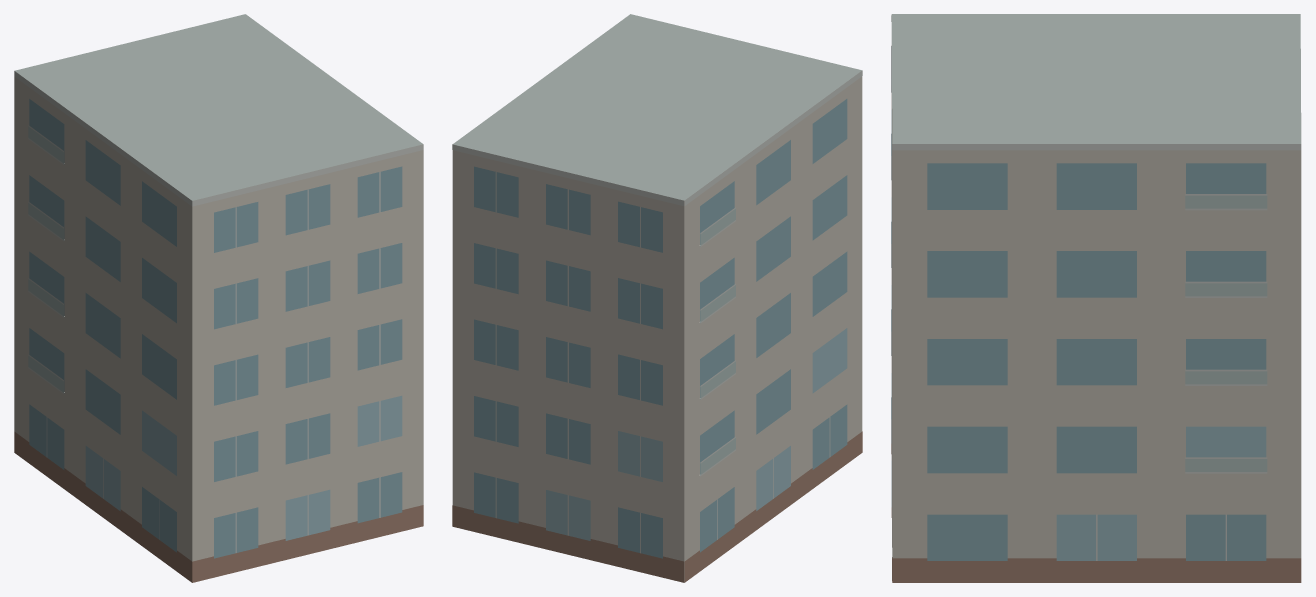
File: survey-upis-32832871.glb
3 renders of one model, left to right at view 1: azimuth 30°, elevation 25°; view 2: azimuth 150°, elevation 25°; view 3: azimuth 270°, elevation 25°, orthographic. The views are drawn at different scales.
Visible parts, largest first — view 1: survey-upis-32832871.tmp; view 2: survey-upis-32832871.tmp; view 3: survey-upis-32832871.tmp.
Boxes of the visible parts, x1,y1,x2,y2 form: survey-upis-32832871.tmp: [14, 14, 423, 582]; survey-upis-32832871.tmp: [452, 14, 862, 582]; survey-upis-32832871.tmp: [891, 14, 1301, 582].
Size of the model in its own units: 10.45 by 16.35 by 13.84.
